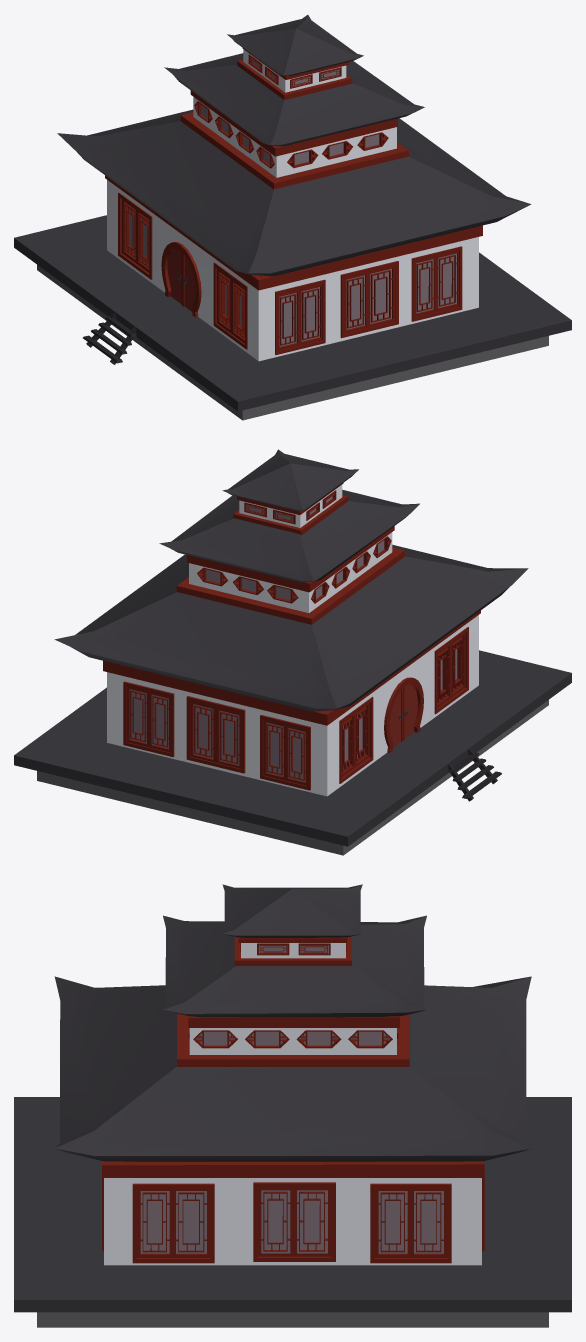
File: Houme08.fbx
3 views of the same model, one above another, from view 1: azimuth 30°, elevation 25°; view 2: azimuth 150°, elevation 25°; view 3: azimuth 270°, elevation 25° (orthographic). The views are drawn at different scales.
Parts seen in each view (by area): view 1: houme08; view 2: houme08; view 3: houme08.
Boxes of the visible parts, box(x1,y1,x2,y2) form: houme08: box(14, 15, 571, 420); houme08: box(14, 449, 571, 855); houme08: box(14, 884, 571, 1327).
Bounding box in the file's own units: 2212 × 1649 × 2381.
